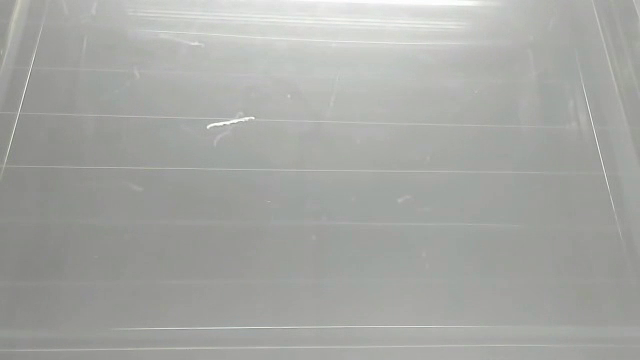alpha: (205, 115, 258, 132)
